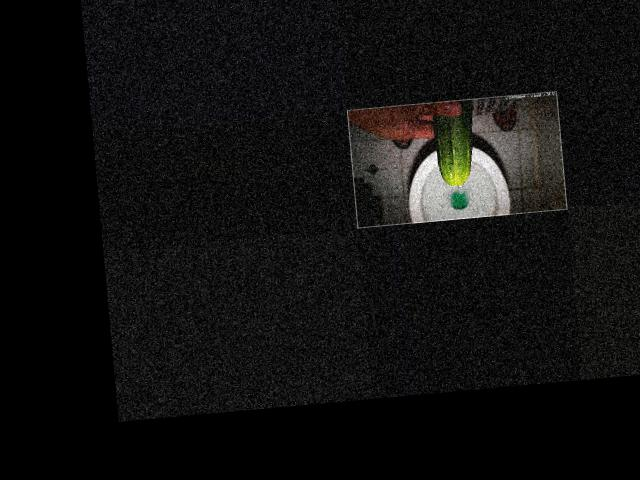cucumber: (432, 97, 479, 186)
